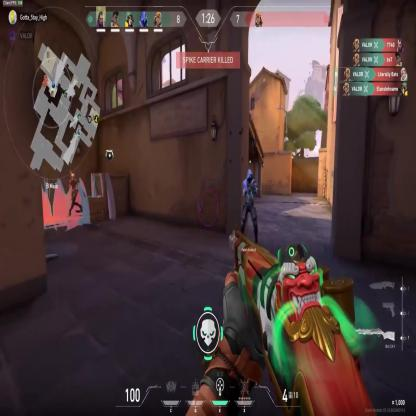enemy: (67, 172, 83, 215)
enemy_head: (71, 173, 75, 180)
